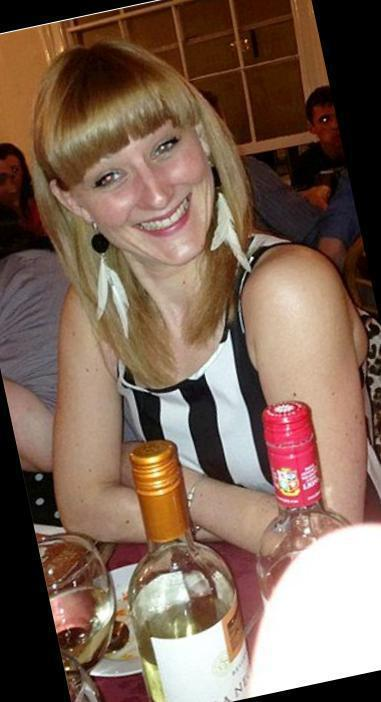Drunk: (75, 126, 213, 262)
